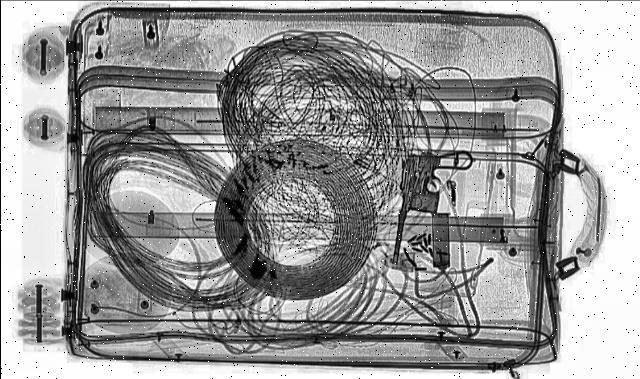Gun: (380, 144, 472, 272)
